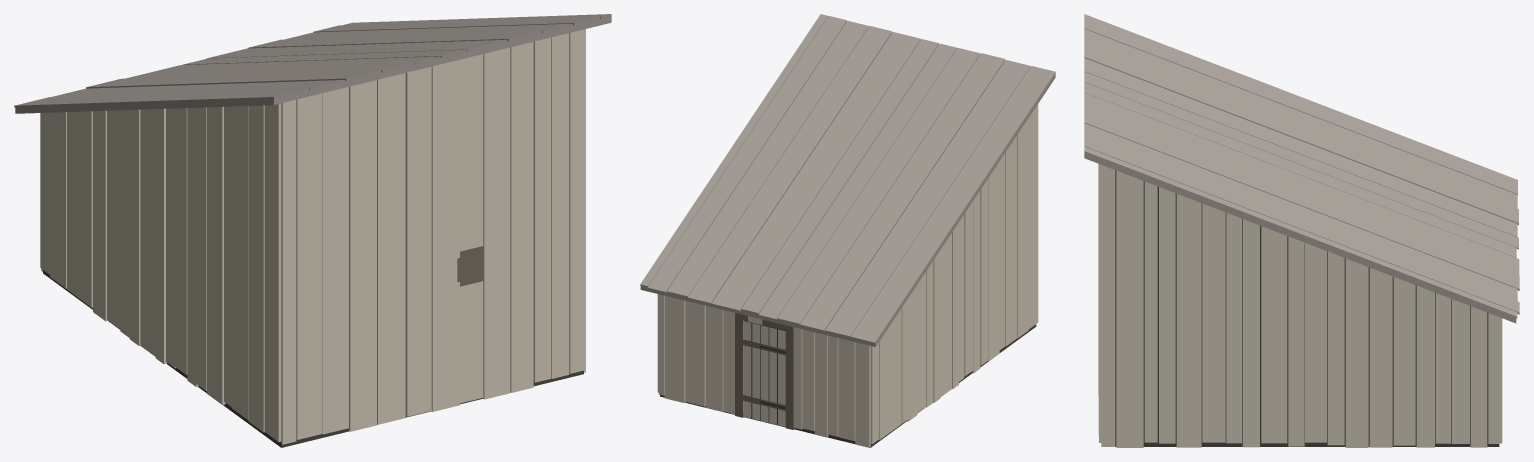
File: recon_1835_north_d2_085__inferred_1835.glb
3 views of the same model, side by side, from view 1: azimuth 30°, elevation 25°; view 2: azimuth 150°, elevation 25°; view 3: azimuth 270°, elevation 25° (orthographic). The views are drawn at different scales.
Visible parts, largest first — view 1: recon_1835_north_d2_085__inferred_1835; view 2: recon_1835_north_d2_085__inferred_1835; view 3: recon_1835_north_d2_085__inferred_1835.
Boxes of the visible parts, <box> form: recon_1835_north_d2_085__inferred_1835: <box>14,14,611,447</box>; recon_1835_north_d2_085__inferred_1835: <box>640,14,1055,447</box>; recon_1835_north_d2_085__inferred_1835: <box>1084,14,1519,447</box>.
Size of the model in its own units: 4.74 by 4.88 by 6.33.
